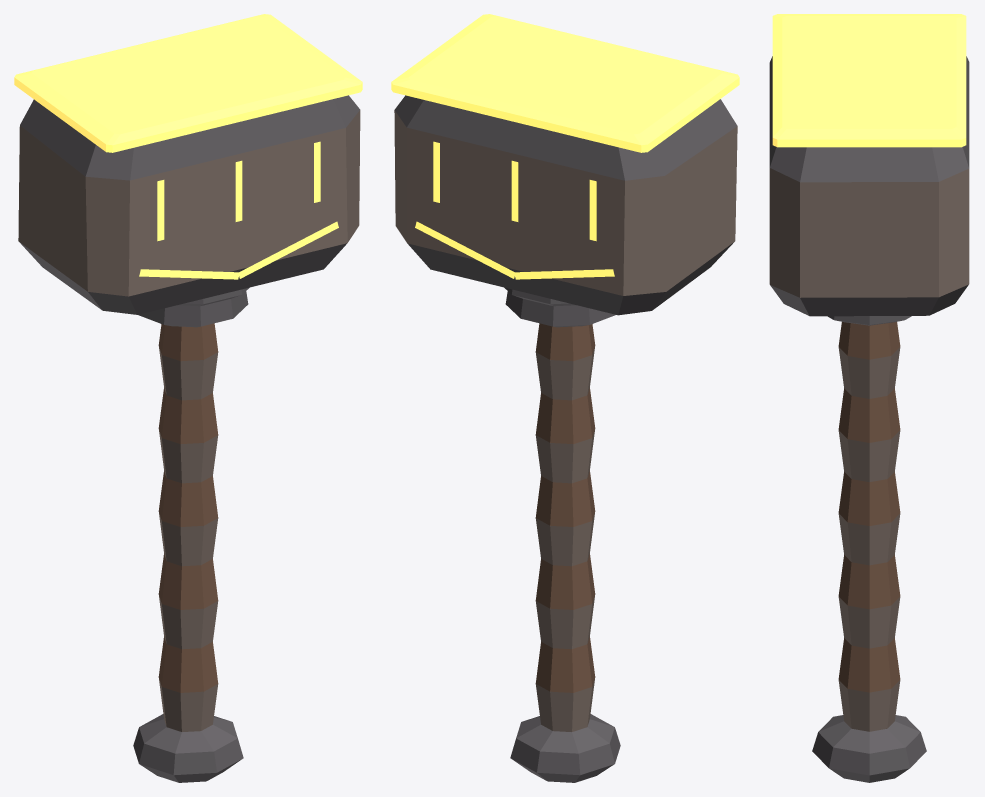
Rendered from hoard_forge_maul.glb.
3 views of the same model, side by side, from view 1: azimuth 30°, elevation 25°; view 2: azimuth 150°, elevation 25°; view 3: azimuth 270°, elevation 25° (orthographic).
Parts seen in each view (by area): view 1: Hammer_Head, Hammer_Face, Hammer_Haft, Hammer_Pommel, Hammer_Runes, Hammer_Collar; view 2: Hammer_Head, Hammer_Face, Hammer_Haft, Hammer_Pommel, Hammer_Runes, Hammer_Collar; view 3: Hammer_Head, Hammer_Face, Hammer_Haft, Hammer_Pommel, Hammer_Collar.
Boxes of the visible parts, bbox=[...] form: Hammer_Head: bbox=[18, 95, 360, 314]; Hammer_Face: bbox=[14, 14, 362, 152]; Hammer_Haft: bbox=[158, 323, 218, 731]; Hammer_Pommel: bbox=[133, 714, 243, 782]; Hammer_Runes: bbox=[139, 141, 338, 279]; Hammer_Collar: bbox=[138, 287, 249, 327]; Hammer_Head: bbox=[394, 95, 737, 315]; Hammer_Face: bbox=[391, 14, 739, 152]; Hammer_Haft: bbox=[535, 323, 595, 731]; Hammer_Pommel: bbox=[510, 714, 620, 782]; Hammer_Runes: bbox=[415, 141, 614, 279]; Hammer_Collar: bbox=[504, 287, 615, 327]; Hammer_Head: bbox=[769, 56, 969, 316]; Hammer_Face: bbox=[772, 14, 966, 147]; Hammer_Haft: bbox=[838, 322, 900, 731]; Hammer_Pommel: bbox=[812, 715, 926, 782]; Hammer_Collar: bbox=[828, 316, 911, 325].
Size of the model in its own units: 0.7382 by 1.8 by 0.4707.
